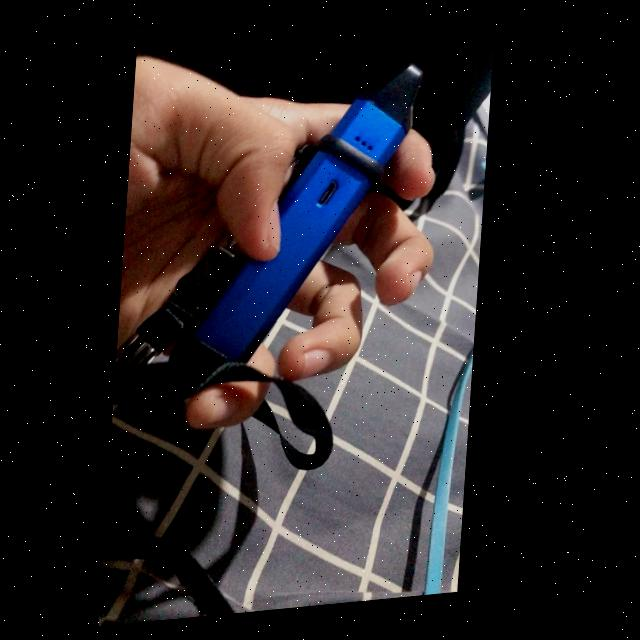vape: (175, 64, 428, 397)
